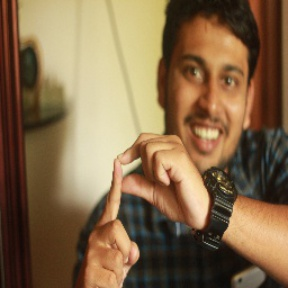P: (80, 132, 191, 288)
